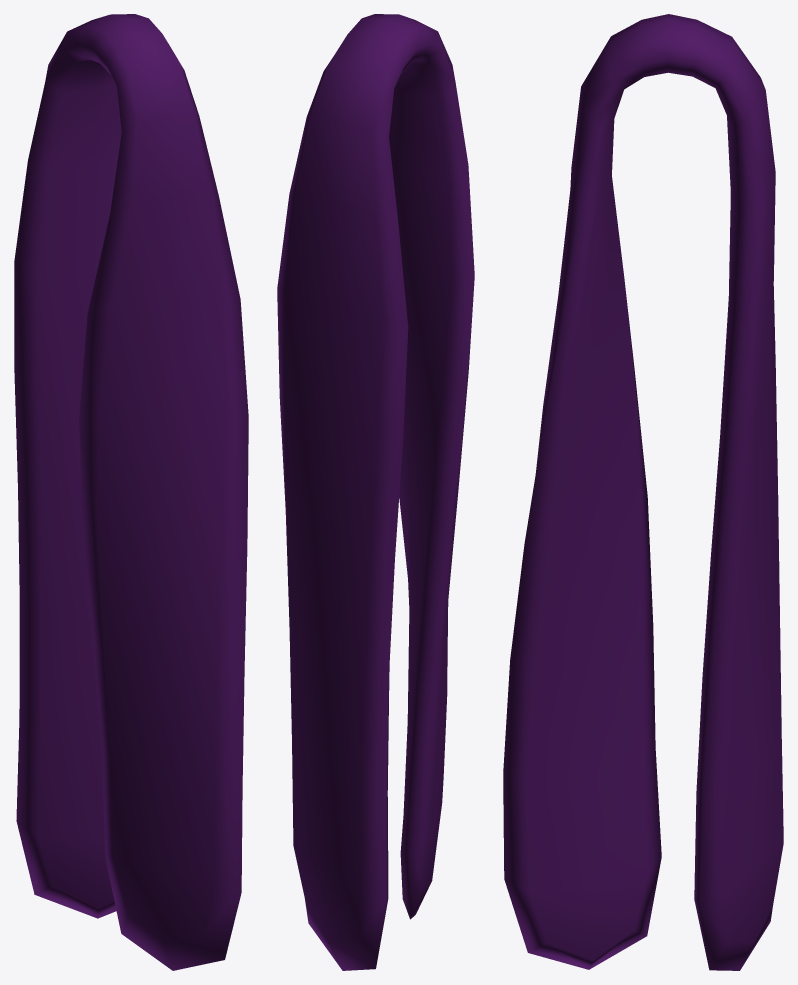
Rendered from geo_echarpe.fbx.
3 renders of one model, left to right at view 1: azimuth 30°, elevation 25°; view 2: azimuth 150°, elevation 25°; view 3: azimuth 270°, elevation 25°, orthographic. The views are drawn at different scales.
Parts seen in each view (by area): view 1: geo_echarpe; view 2: geo_echarpe; view 3: geo_echarpe.
Part boxes in pixels (left/top/right/bottom): geo_echarpe: left=14, top=14, right=248, bottom=970; geo_echarpe: left=277, top=14, right=474, bottom=970; geo_echarpe: left=503, top=14, right=783, bottom=970.
Size of the model in its own units: 19.34 by 122 by 32.78.
